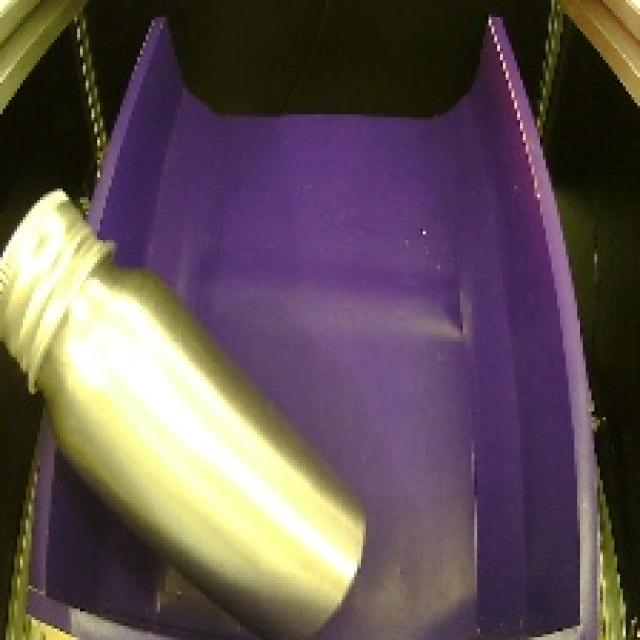metal: (0, 171, 377, 640)
